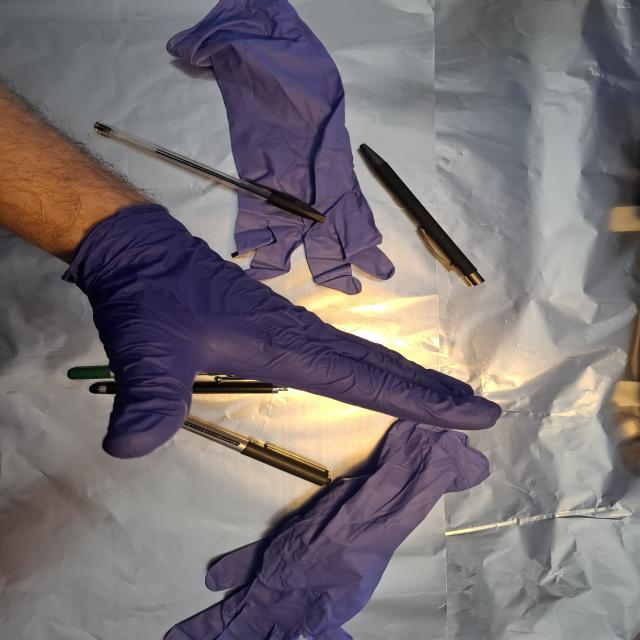glove_on: (71, 204, 506, 462)
